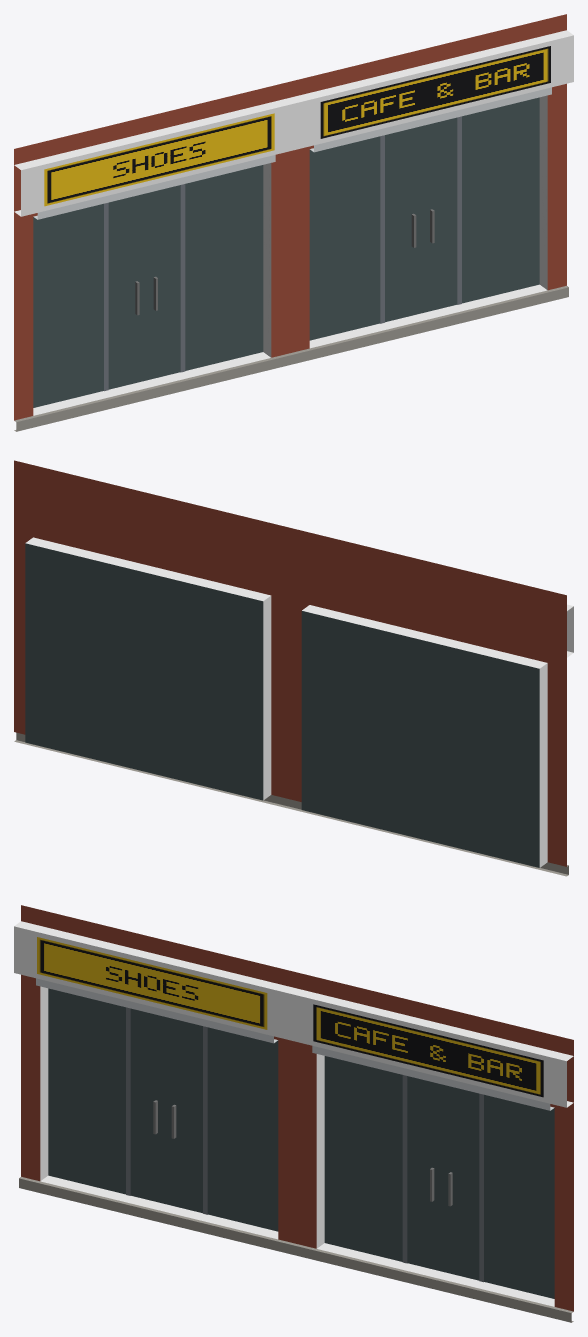
Rendered from base-w2_close.fbx.
The picture shows the model from 3 angles, top to bottom: view 1: azimuth 30°, elevation 25°; view 2: azimuth 150°, elevation 25°; view 3: azimuth 330°, elevation 25°; orthographic projection.
Visible parts, largest first — view 1: a2009/600/base-w2_close; view 2: a2009/600/base-w2_close; view 3: a2009/600/base-w2_close.
Part boxes in pixels (bbox=[...]): a2009/600/base-w2_close: bbox=[14, 14, 573, 431]; a2009/600/base-w2_close: bbox=[14, 460, 573, 876]; a2009/600/base-w2_close: bbox=[14, 905, 573, 1322].
Bounding box in the file's own units: 7.2 × 3.5 × 0.342.
